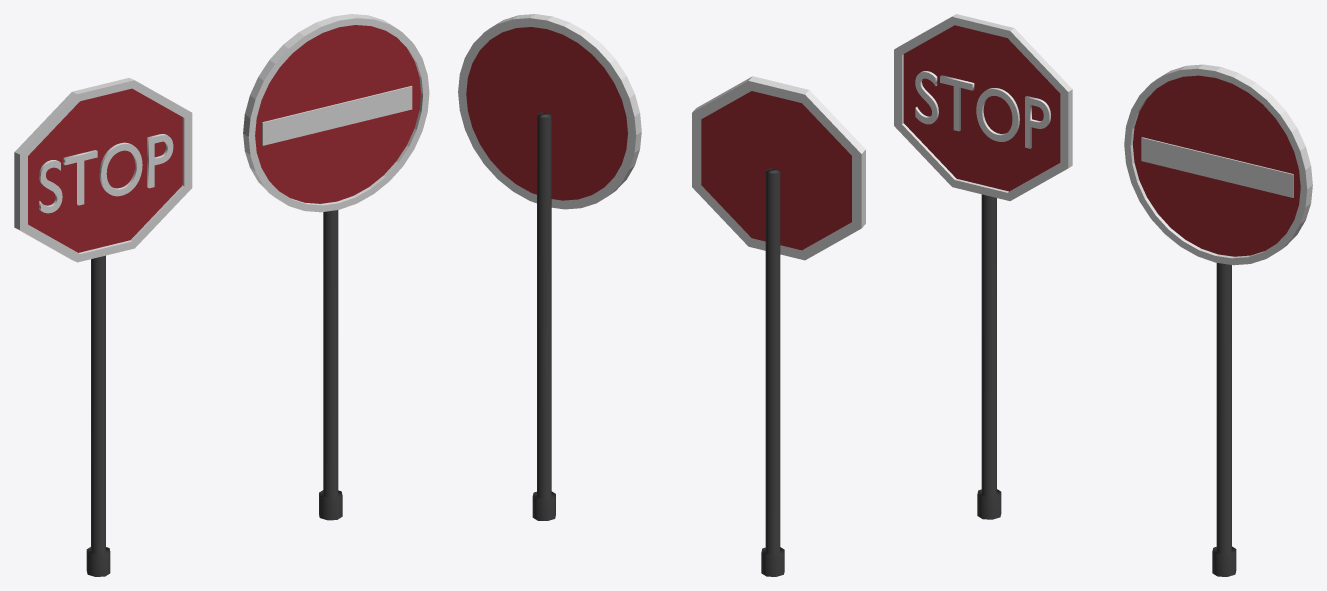
File: Object_2_RoadSignNoTexture.fbx
The picture shows the model from 3 angles, left to right: view 1: azimuth 30°, elevation 25°; view 2: azimuth 150°, elevation 25°; view 3: azimuth 330°, elevation 25°; orthographic projection. The views are drawn at different scales.
Visible parts, largest first — view 1: Circle.001, Plane.001, Cube.002, Cube, Cube.001, Text; view 2: Circle.001, Plane.001, Cube, Cube.002; view 3: Circle.001, Plane.001, Cube, Cube.002, Cube.001, Text.
Part boxes in pixels (x1=…): Circle.001: x1=243, y1=14, x2=429, y2=212; Plane.001: x1=14, y1=78, x2=192, y2=262; Cube.002: x1=319, y1=210, x2=342, y2=520; Cube: x1=86, y1=255, x2=110, y2=576; Cube.001: x1=262, y1=86, x2=412, y2=145; Text: x1=39, y1=134, x2=173, y2=213; Circle.001: x1=458, y1=14, x2=641, y2=209; Plane.001: x1=692, y1=76, x2=865, y2=260; Cube: x1=761, y1=168, x2=784, y2=576; Cube.002: x1=532, y1=112, x2=555, y2=520; Circle.001: x1=1124, y1=64, x2=1312, y2=265; Plane.001: x1=894, y1=14, x2=1072, y2=200; Cube: x1=977, y1=194, x2=1001, y2=519; Cube.002: x1=1212, y1=263, x2=1236, y2=576; Cube.001: x1=1141, y1=137, x2=1293, y2=197; Text: x1=915, y1=71, x2=1050, y2=148.
Bounding box in the file's own units: 203 × 237 × 12.8.
